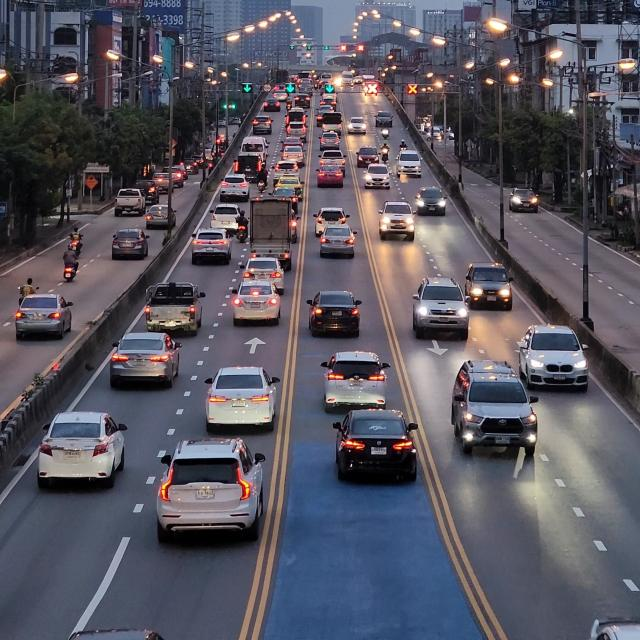Car: (154, 438, 270, 537), (446, 358, 540, 461), (39, 408, 132, 494), (332, 407, 421, 487), (200, 365, 284, 436), (520, 322, 594, 394), (317, 350, 400, 414), (104, 331, 182, 395), (406, 272, 475, 342), (246, 188, 297, 275), (146, 278, 208, 338), (10, 289, 78, 342), (306, 289, 368, 344), (226, 280, 286, 331), (468, 262, 516, 313), (189, 230, 239, 268), (316, 224, 364, 260), (380, 202, 418, 244), (110, 224, 152, 262), (416, 183, 450, 220), (509, 183, 543, 216), (364, 160, 396, 192)
